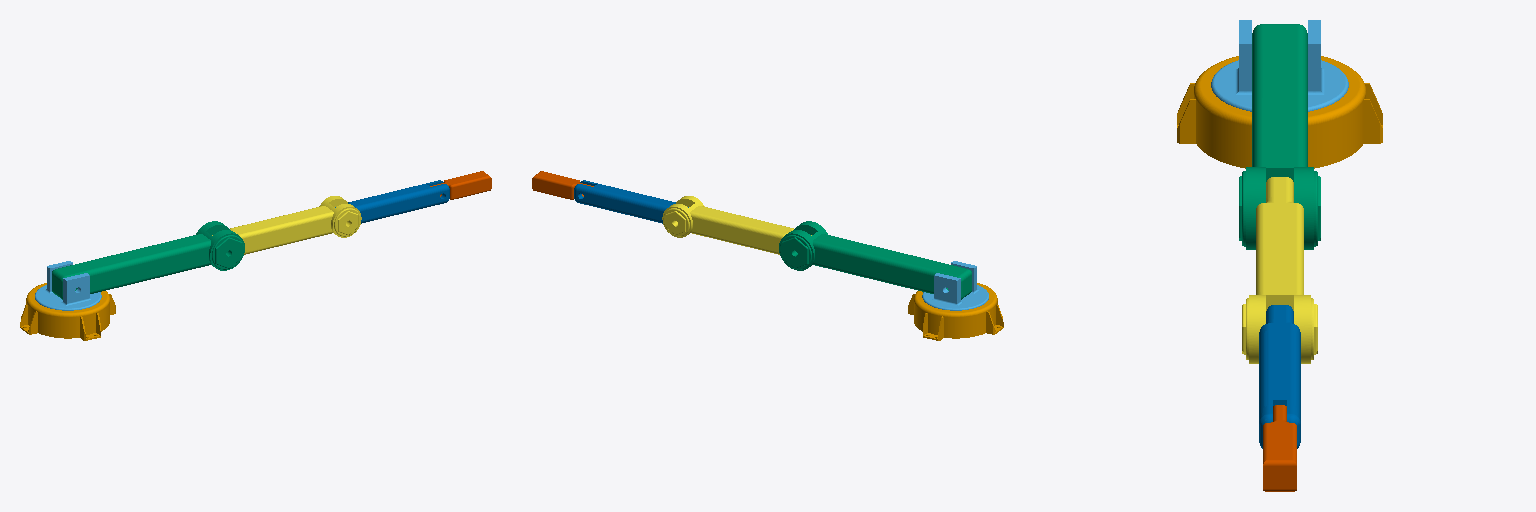
URDF robot description (Brazo_50cm_Preciso):
<?xml version="1.0"?>
<robot name="Brazo_50cm_Preciso">
  <link name="base_link">
    <visual>
      <geometry><mesh filename="urdf/mesh/Base_Brazo_Robotico.stl" scale="0.00035 0.00035 0.00035"/></geometry>
    </visual>
    <collision>
      <geometry><mesh filename="urdf/mesh/Base_Brazo_Robotico.stl" scale="0.00035 0.00035 0.00035"/></geometry>
    </collision>
    <inertial>
      <mass value="1.5"/><inertia ixx="0.01" ixy="0" ixz="0" iyy="0.01" iyz="0" izz="0.01"/>
    </inertial>
  </link>

  <joint name="base_joint" type="revolute">
    <parent link="base_link"/><child link="base_rotation"/>
    <origin xyz="0 0 0.028"/><axis xyz="0 0 1"/>
    <limit lower="-3.14" upper="3.14" effort="300" velocity="5"/>
  </joint>

  <link name="base_rotation">
    <visual><geometry><mesh filename="urdf/mesh/Base_Rotacional.stl" scale="0.00035 0.00035 0.00035"/></geometry></visual>
    <collision><geometry><mesh filename="urdf/mesh/Base_Rotacional.stl" scale="0.00035 0.00035 0.00035"/></geometry></collision>
    <inertial><mass value="0.4"/><inertia ixx="0.002" ixy="0" ixz="0" iyy="0.002" iyz="0" izz="0.002"/></inertial>
  </link>

  <joint name="shoulder_joint" type="revolute">
    <parent link="base_rotation"/><child link="link1"/>
    <origin xyz="0 0 0.0157"/><axis xyz="0 1 0"/>
    <limit lower="-3.14" upper="3.14" effort="300" velocity="3"/>
  </joint>

  <link name="link1">
    <visual><geometry><mesh filename="urdf/mesh/Link1.stl" scale="0.00035 0.00035 0.00035"/></geometry></visual>
    <collision><geometry><mesh filename="urdf/mesh/Link1.stl" scale="0.00035 0.00035 0.00035"/></geometry></collision>
    <inertial><mass value="0.3"/><inertia ixx="0.001" ixy="0" ixz="0" iyy="0.001" iyz="0" izz="0.001"/></inertial>
  </link>

  <joint name="elbow_joint" type="revolute">
    <parent link="link1"/><child link="link2"/>
    <origin xyz="0.1764 0 0"/><axis xyz="0 1 0"/>
    <limit lower="-3.14" upper="3.14" effort="300" velocity="3"/>
  </joint>

  <link name="link2">
    <visual><geometry><mesh filename="urdf/mesh/Link2.stl" scale="0.00035 0.00035 0.00035"/></geometry></visual>
    <collision><geometry><mesh filename="urdf/mesh/Link2.stl" scale="0.00035 0.00035 0.00035"/></geometry></collision>
    <inertial><mass value="0.2"/><inertia ixx="0.0008" ixy="0" ixz="0" iyy="0.0008" iyz="0" izz="0.0008"/></inertial>
  </link>

  <joint name="wrist_pitch_joint" type="revolute">
    <parent link="link2"/><child link="Link3"/>
    <origin xyz="0.1484 0 0"/><axis xyz="0 1 0"/>
    <limit lower="-3.14" upper="3.14" effort="100" velocity="3"/>
  </joint>

  <link name="Link3">
    <visual><geometry><mesh filename="urdf/mesh/Link3.stl" scale="0.00035 0.00035 0.00035"/></geometry></visual>
    <collision><geometry><mesh filename="urdf/mesh/Link3.stl" scale="0.00035 0.00035 0.00035"/></geometry></collision>
    <inertial><mass value="0.1"/><inertia ixx="0.0005" ixy="0" ixz="0" iyy="0.0005" iyz="0" izz="0.0005"/></inertial>
  </link>

  <joint name="wrist_yaw_joint" type="revolute">
    <parent link="Link3"/><child link="Link4"/>
    <origin xyz="0.1207 0 0"/><axis xyz="0 1 0"/>
    <limit lower="-3.14" upper="3.14" effort="100" velocity="3"/>
  </joint>

  <link name="Link4">
    <visual><geometry><mesh filename="urdf/mesh/Link4.stl" scale="0.00035 0.00035 0.00035"/></geometry></visual>
    <collision><geometry><mesh filename="urdf/mesh/Link4.stl" scale="0.00035 0.00035 0.00035"/></geometry></collision>
    <inertial><mass value="0.08"/><inertia ixx="0.0004" ixy="0" ixz="0" iyy="0.0004" iyz="0" izz="0.0004"/></inertial>
  </link>

  <joint name="end_effector_joint" type="fixed">
    <parent link="Link4"/><child link="end_effector"/>
    <origin xyz="0.0525 0 0"/>
  </joint>

  <link name="end_effector">
    <inertial><mass value="0.0001"/><inertia ixx="1e-7" ixy="0" ixz="0" iyy="1e-7" iyz="0" izz="1e-7"/></inertial>
  </link>
</robot>

--- Facts derived from the render (not from the file) ---
Views: 3 orthographic renders of the robot side by side, from view 1: azimuth 30°, elevation 25°; view 2: azimuth 150°, elevation 25°; view 3: azimuth 270°, elevation 25°.
Model Brazo_50cm_Preciso with 7 links and 6 joints (5 revolute, 1 fixed), rooted at base_link, posed every joint at zero.
Links seen in each view (by area): view 1: link1, link2, base_link, Link3, base_rotation, Link4; view 2: link1, link2, base_link, Link3, base_rotation, Link4; view 3: link1, base_link, link2, Link3, base_rotation, Link4.
Boxes of the visible links, left/top/right/bottom form: link1: left=52, top=221, right=244, bottom=299; link2: left=212, top=196, right=361, bottom=254; base_link: left=20, top=283, right=115, bottom=340; Link3: left=335, top=180, right=449, bottom=223; base_rotation: left=35, top=261, right=101, bottom=310; Link4: left=430, top=171, right=491, bottom=199; link1: left=779, top=221, right=971, bottom=299; link2: left=662, top=196, right=811, bottom=254; base_link: left=908, top=283, right=1003, bottom=340; Link3: left=574, top=180, right=688, bottom=223; base_rotation: left=922, top=261, right=988, bottom=310; Link4: left=532, top=171, right=593, bottom=199; link1: left=1239, top=24, right=1320, bottom=249; base_link: left=1177, top=56, right=1382, bottom=168; link2: left=1242, top=177, right=1317, bottom=363; Link3: left=1259, top=305, right=1300, bottom=448; base_rotation: left=1211, top=20, right=1348, bottom=111; Link4: left=1263, top=405, right=1296, bottom=491.
Bounding box of the posed robot: 0.5575 × 0.105 × 0.0647 m (x, y, z).
Meshes: 6 distinct files referenced, 6 mesh visuals loaded (6 binary STL).
